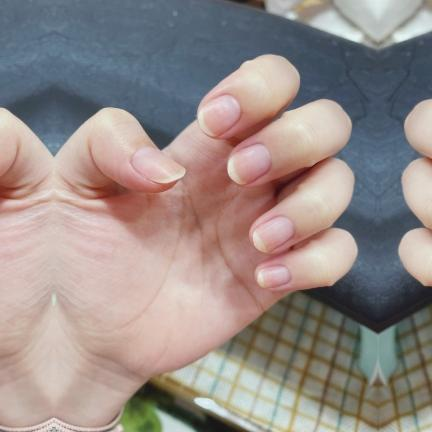Nail: (130, 146, 185, 183), (226, 144, 271, 185), (197, 95, 240, 137), (252, 216, 294, 252), (256, 266, 290, 288)
